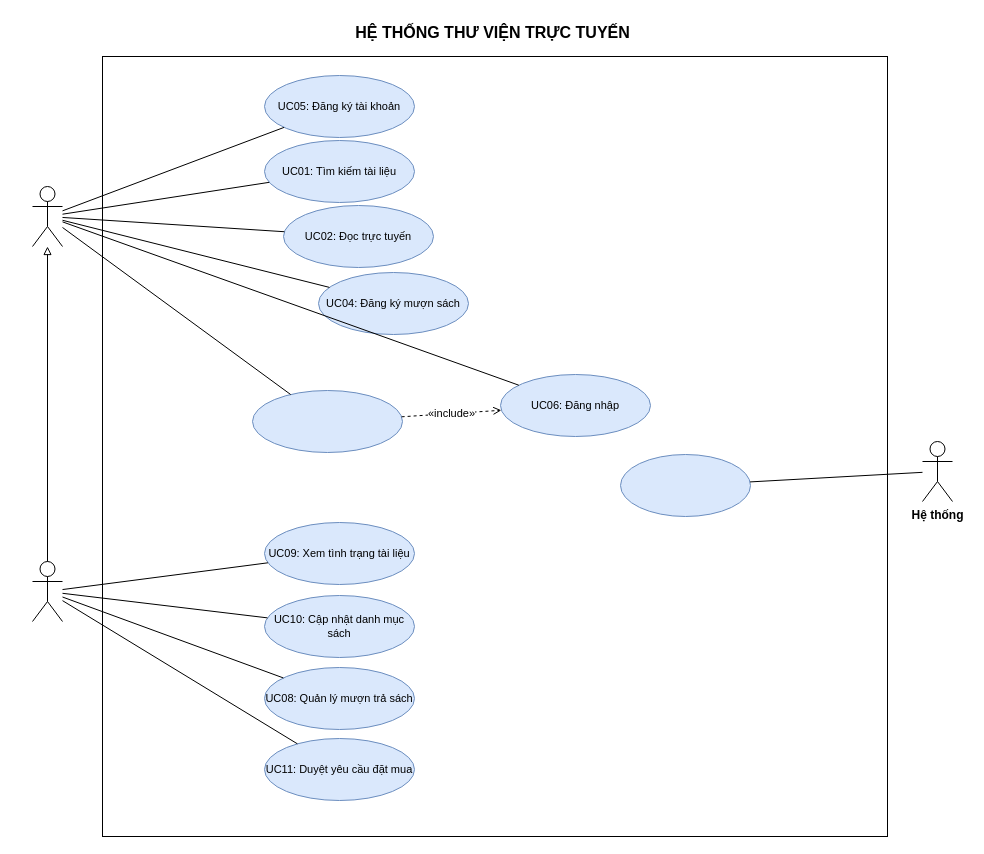
The diagram is 984 pixels wide and 854 high, and some of its shapes have lost their labels. The shapes that lost their labels are listed below. From the top down, each one's centre as x and y in pixels, then its label:
At pixel 47 216: "Độc giả".
At pixel 327 421: "UC07: Đặt mua tài liệu".
At pixel 685 485: "UC12: Gửi mail nhắc nhở".
At pixel 47 591: "Thủ Thư".
